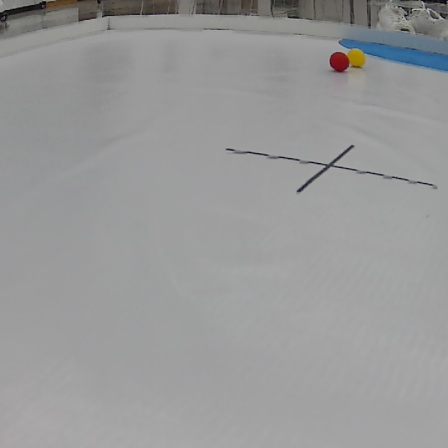blue_base: (332, 37, 448, 76)
red: (324, 52, 351, 72)
yellow: (346, 44, 369, 68)
